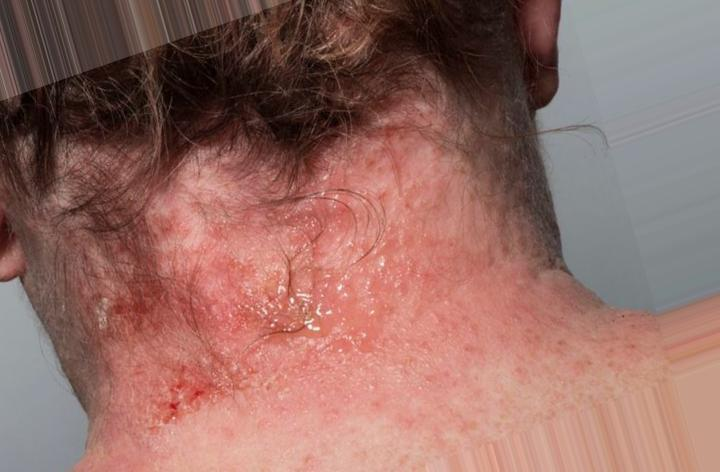Contact Dermatitis: (98, 139, 574, 414)
